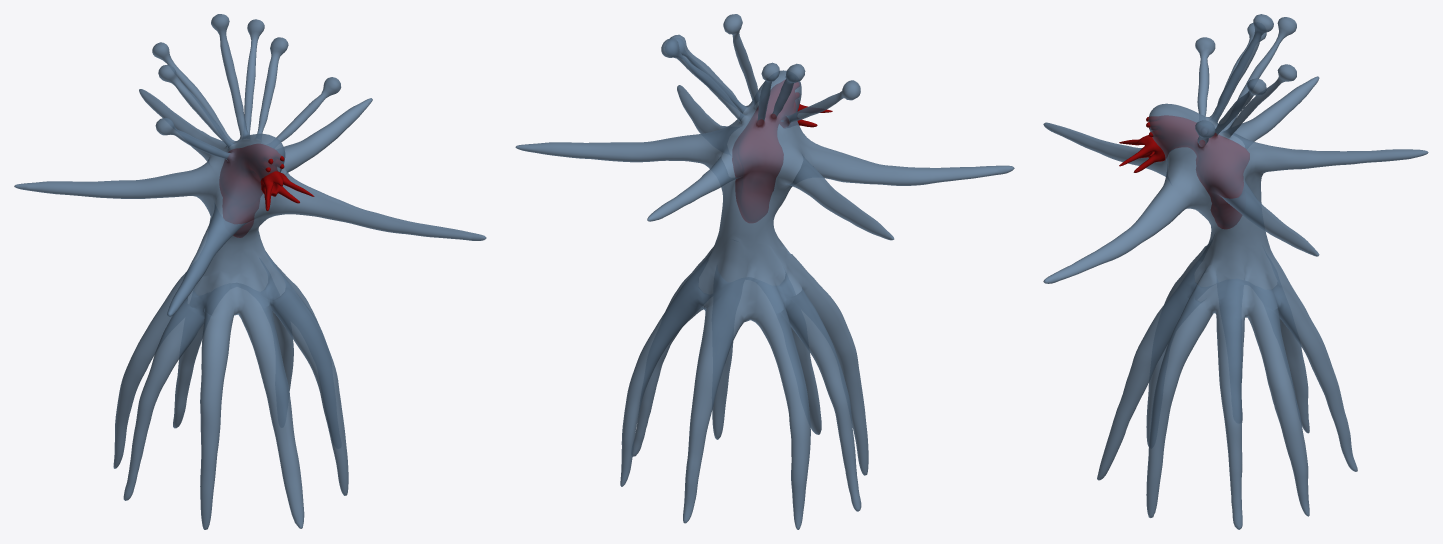
Rendered from Creature.fbx.
3 renders of one model, left to right at view 1: azimuth 30°, elevation 25°; view 2: azimuth 150°, elevation 25°; view 3: azimuth 270°, elevation 25°, orthographic. The views are drawn at different scales.
Parts seen in each view (by area): view 1: outer_creature, inner_creature; view 2: outer_creature, inner_creature; view 3: outer_creature, inner_creature.
Boxes of the visible parts, x1,y1,x2,y2 form: outer_creature: (14, 14, 486, 529); inner_creature: (219, 144, 314, 237); outer_creature: (515, 14, 1014, 529); inner_creature: (732, 80, 832, 222); outer_creature: (1043, 14, 1428, 529); inner_creature: (1119, 115, 1249, 228).
Size of the model in its own units: 173 by 212 by 158.
